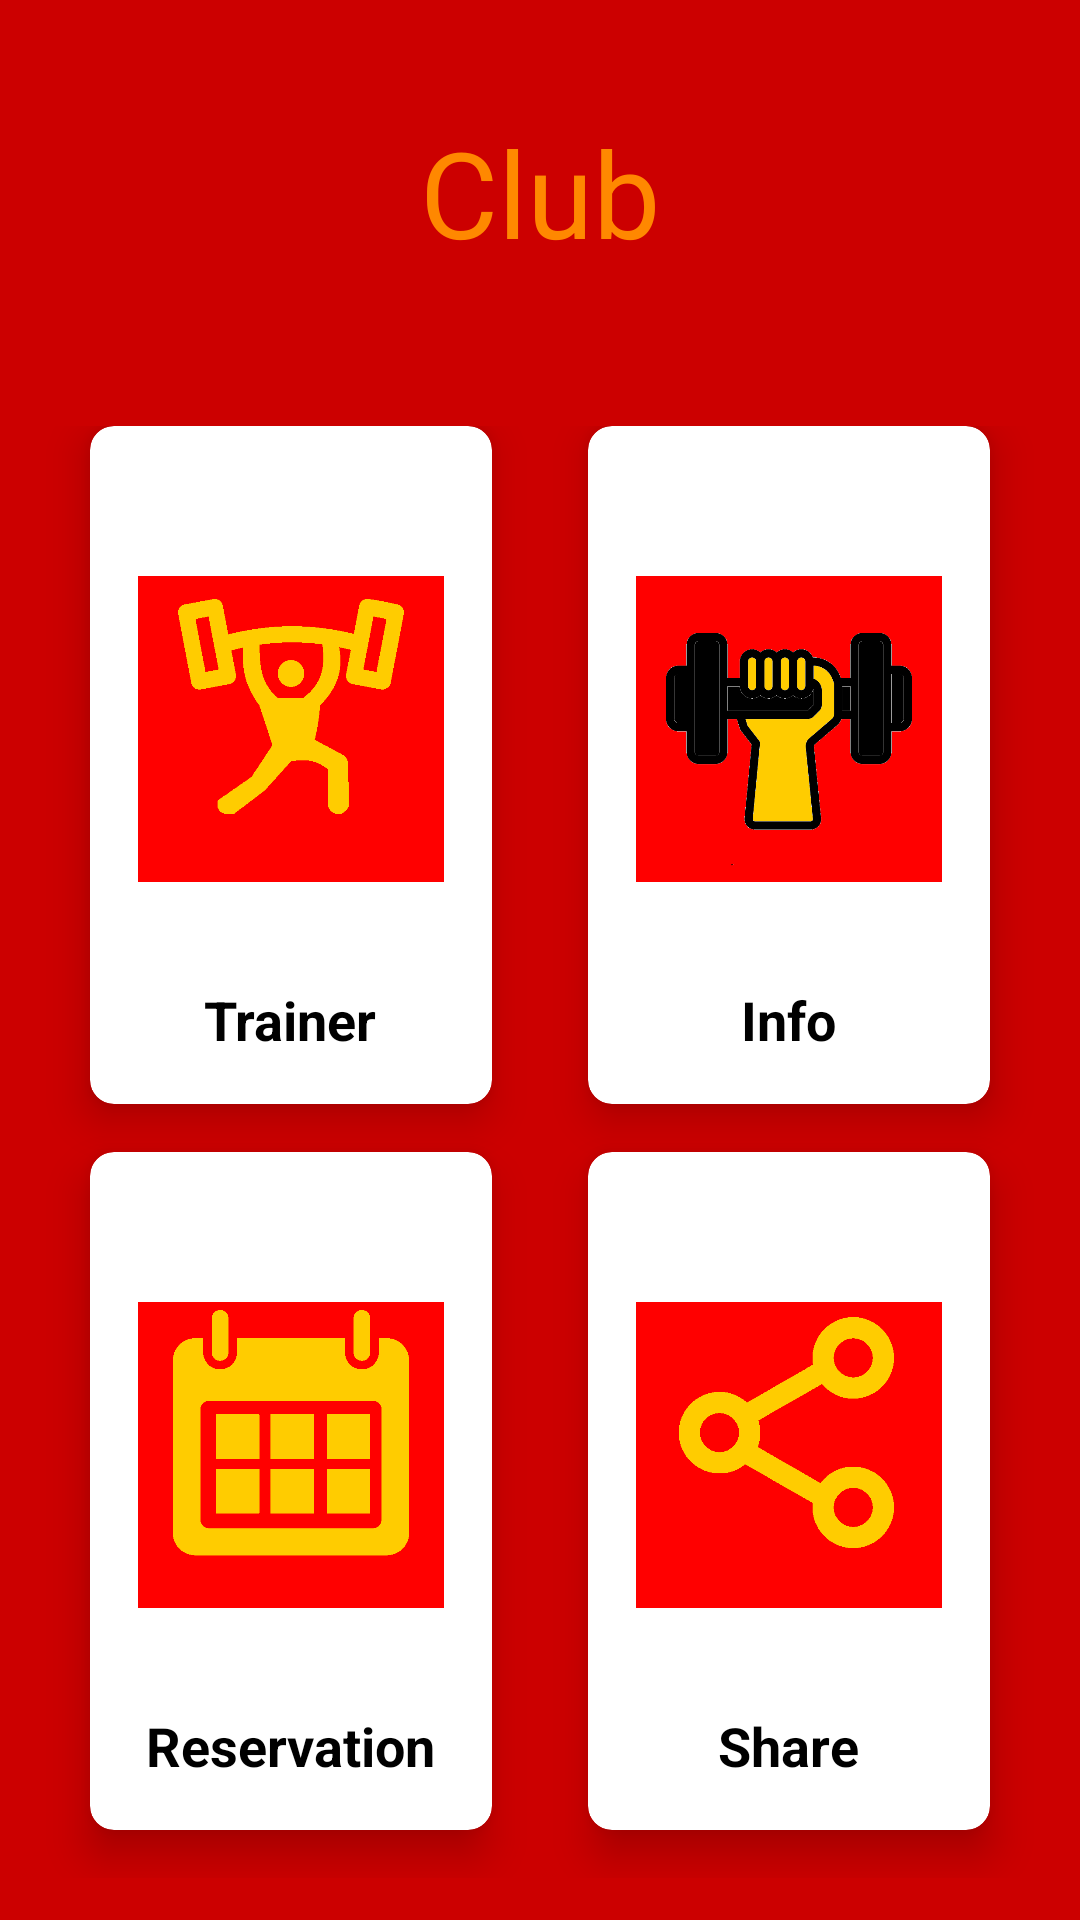

Icons on this 1080 x 1920 Android screen, each with its box as (x1, y1, x2, y2):
altere: (636, 576, 942, 882)
calendar: (138, 1302, 444, 1608)
gym: (138, 576, 444, 882)
